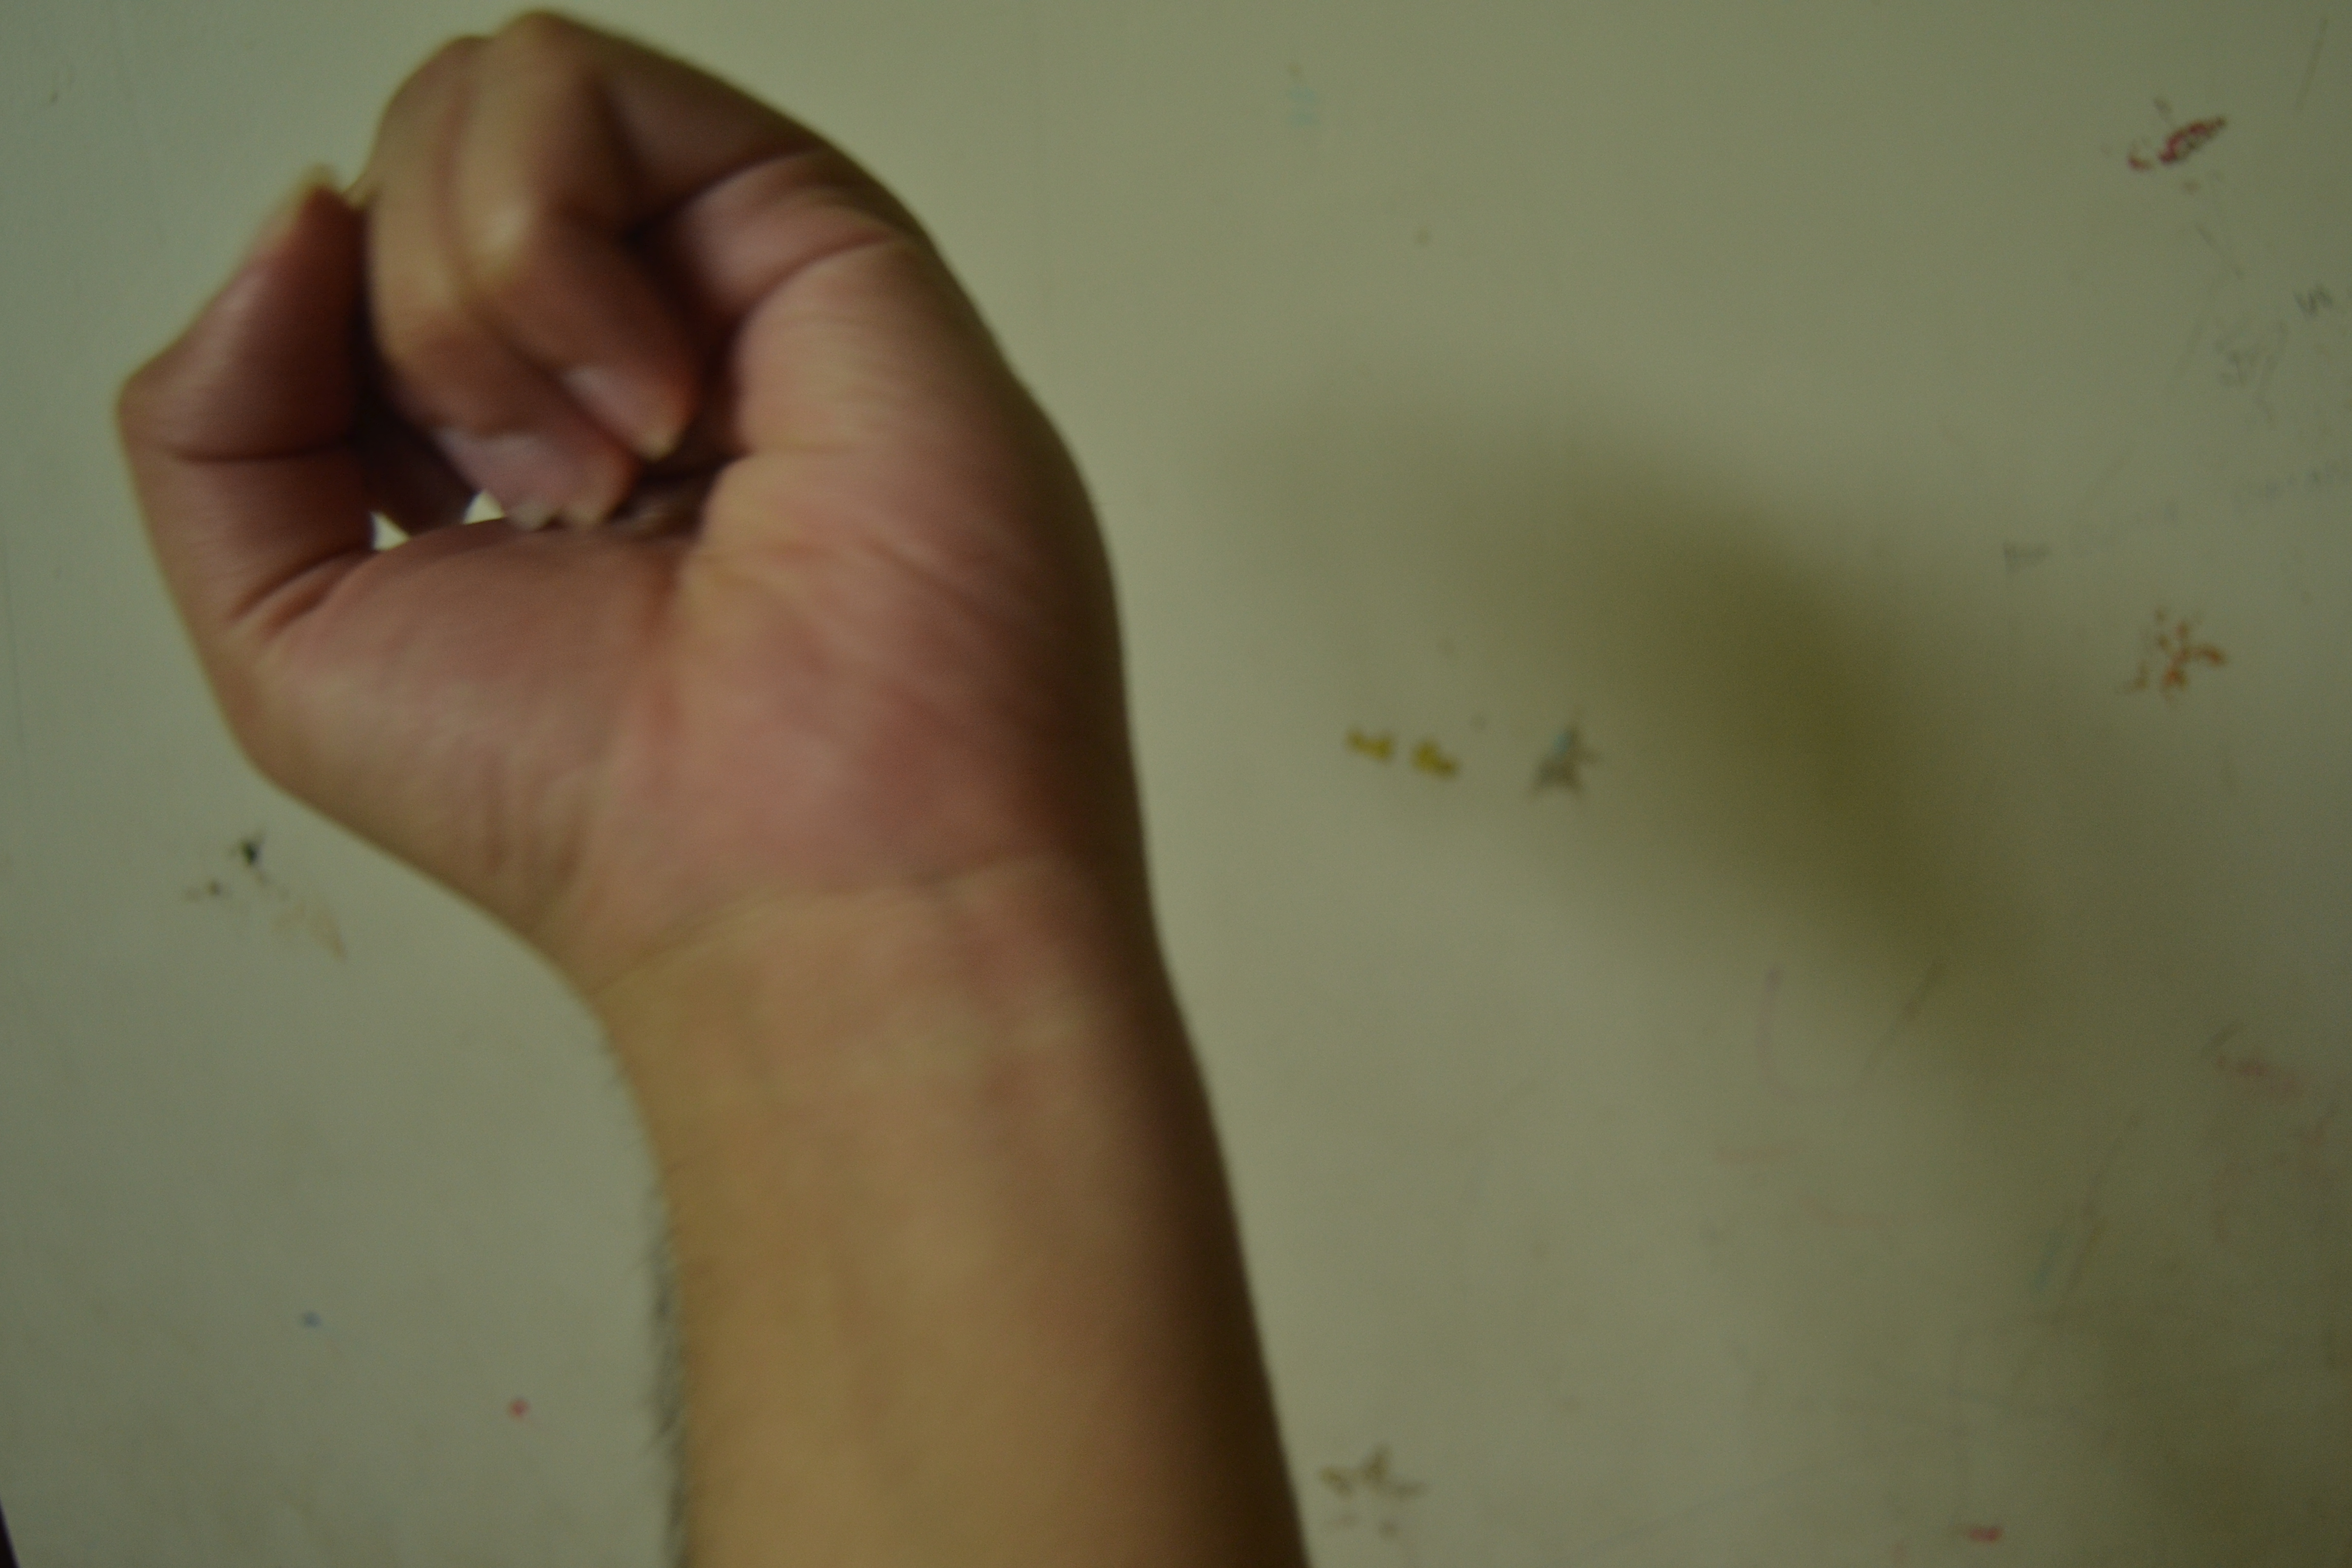click: (72, 3, 1312, 1092)
